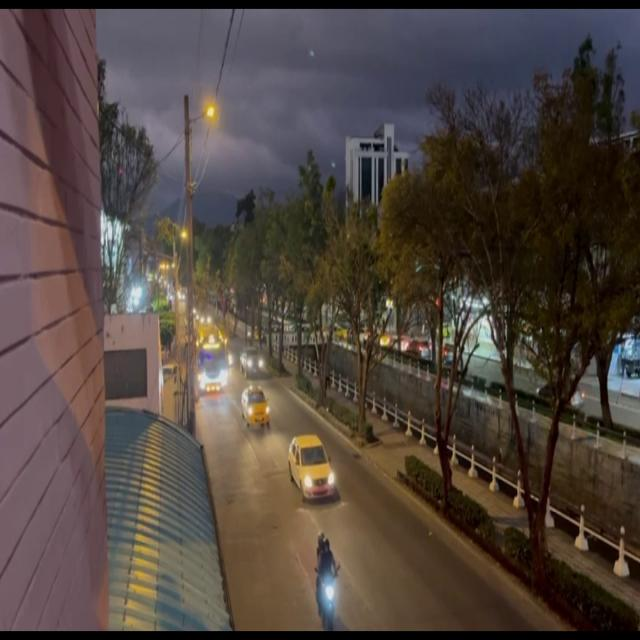MOTORCYCLE: (317, 568, 340, 640)
SED: (290, 440, 332, 501), (244, 390, 269, 430)
